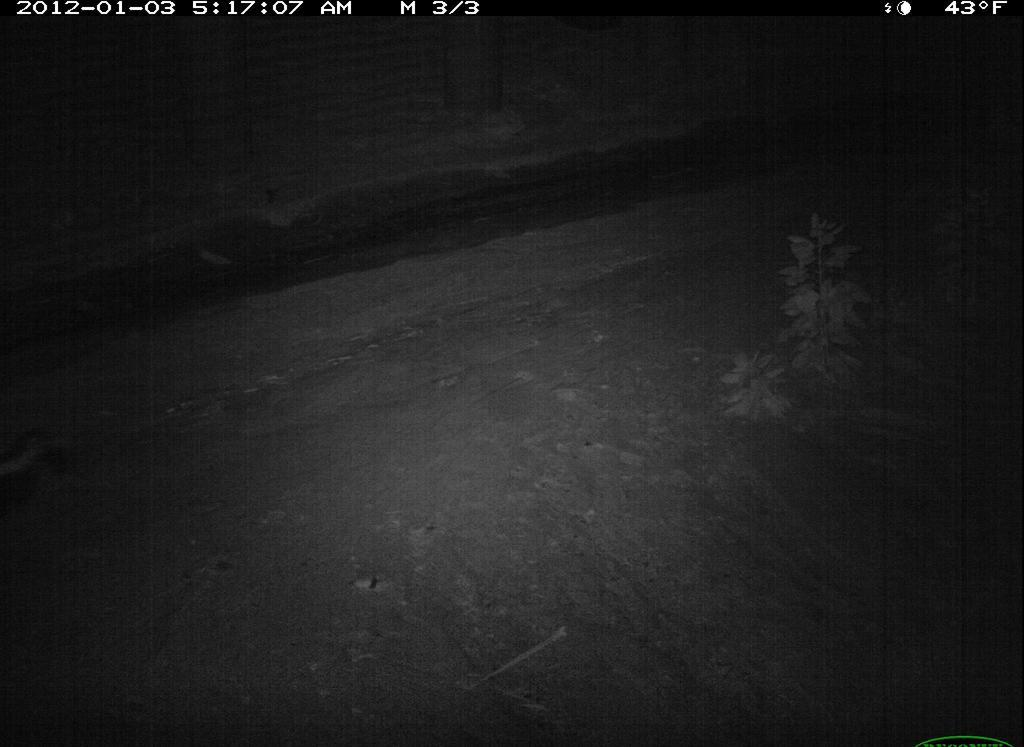skunk: (2, 420, 80, 505)
